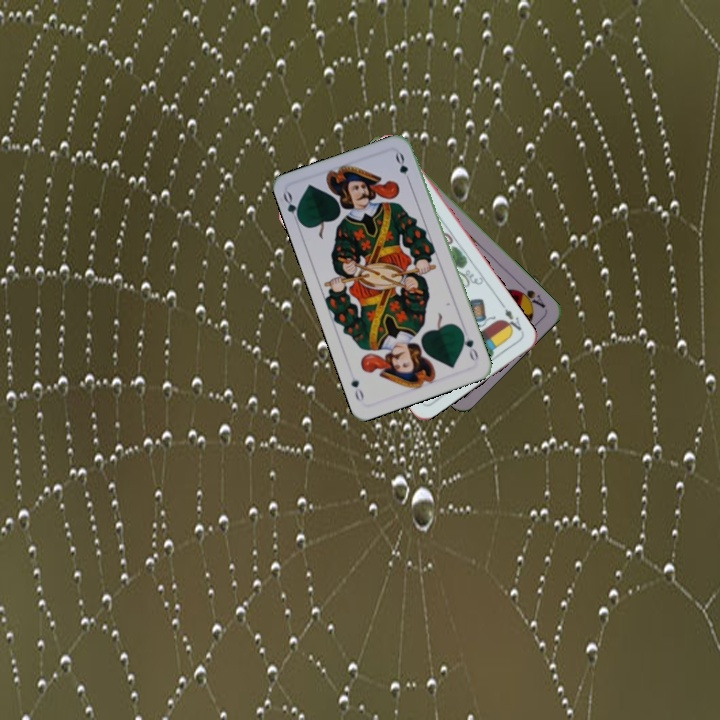EA: (497, 300, 526, 336)
GO: (279, 188, 304, 228), (457, 327, 481, 365)
SA: (511, 280, 548, 311)
